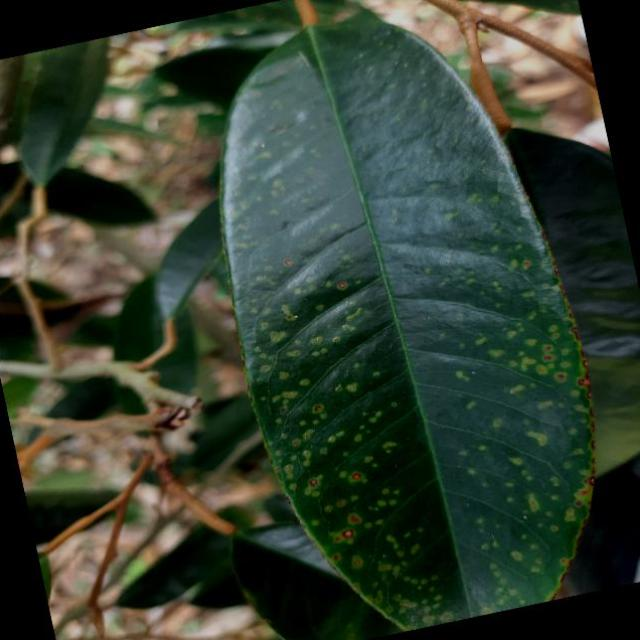Leaf Spot: (165, 0, 638, 640)
